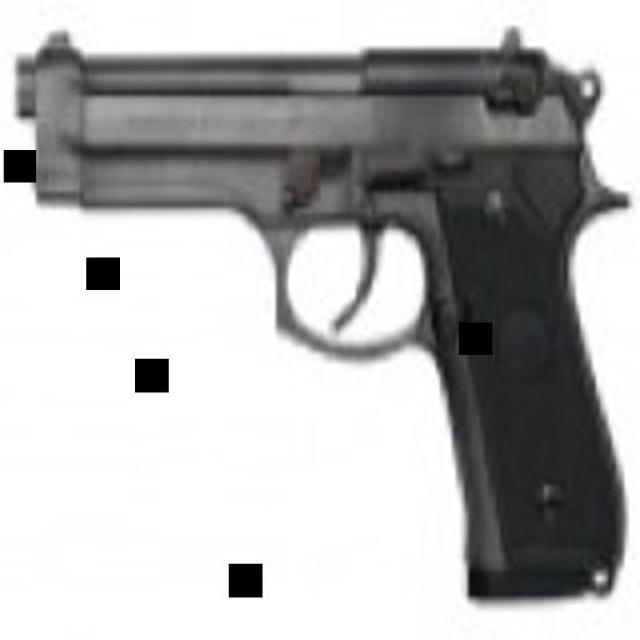gun: (6, 25, 622, 601)
